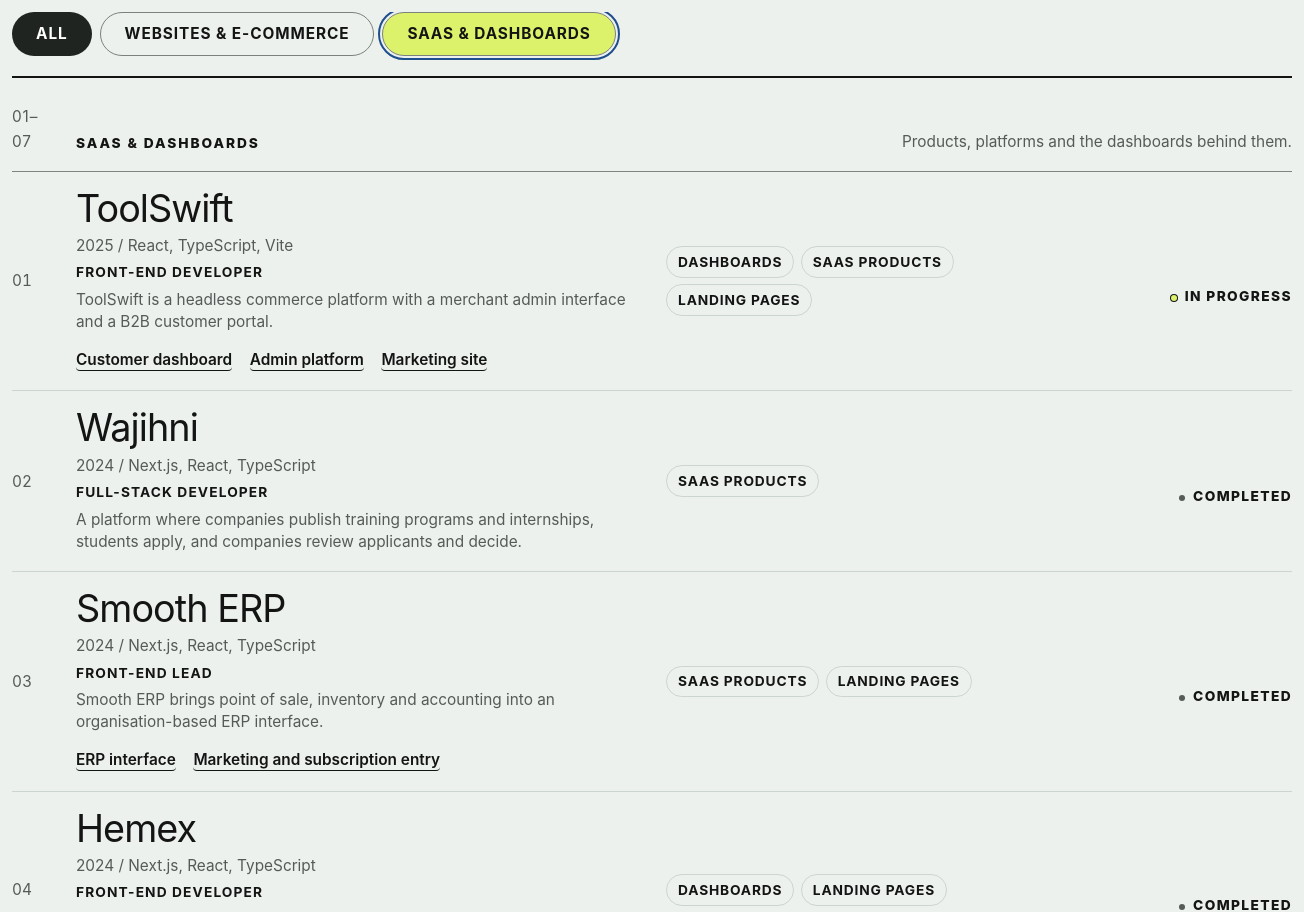
it: filters by area in order, announces counts and supports arrow navigation
Later steps or results of the test are not shown.
Step 1. Click the button "SaaS & Dashboards" → {"x": 499, "y": 34}, box [382, 12, 616, 56]
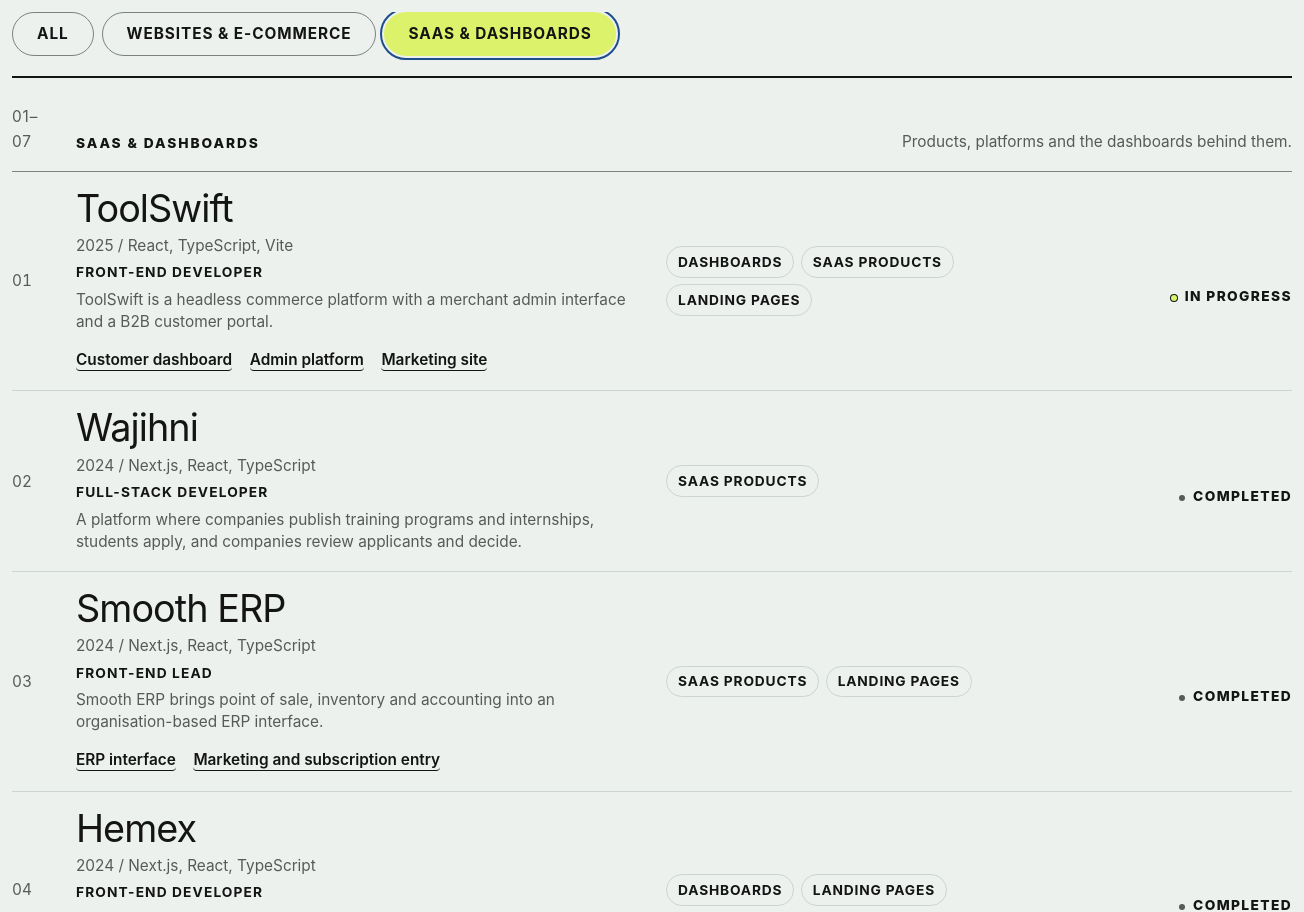
Expected: the number of elements with class "index-collection-break" is 1, [12, 78, 1292, 172]
Result: the button "SaaS & Dashboards" is pressed at [384, 12, 616, 56]
